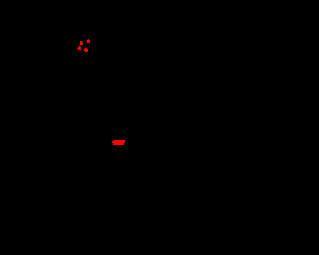Target: (112, 140, 125, 145), (77, 46, 81, 50), (84, 48, 88, 52), (87, 39, 90, 43), (80, 41, 83, 45)
